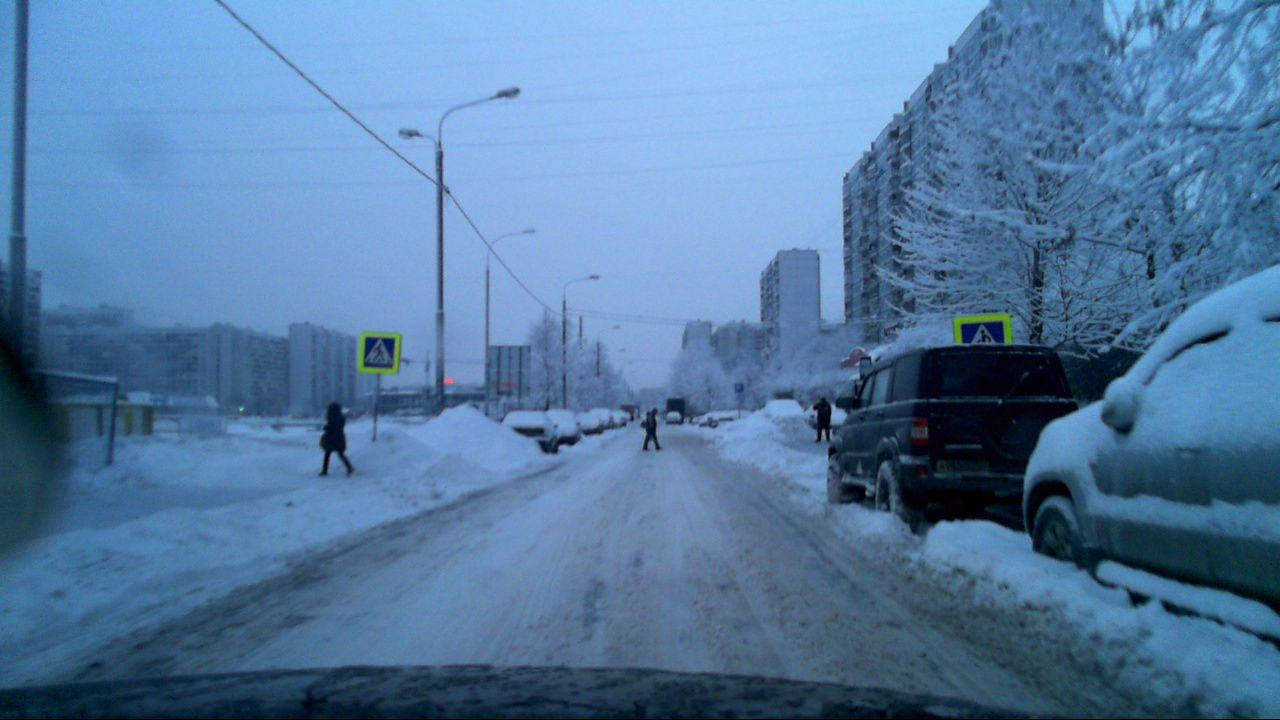5_19_1: (955, 312, 1009, 351)
5_19_2: (361, 334, 397, 371)
